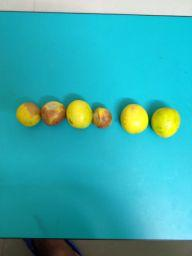lemon: (152, 108, 180, 137), (121, 103, 147, 134), (67, 100, 93, 128), (16, 101, 42, 127), (41, 100, 66, 127), (92, 106, 112, 129)
